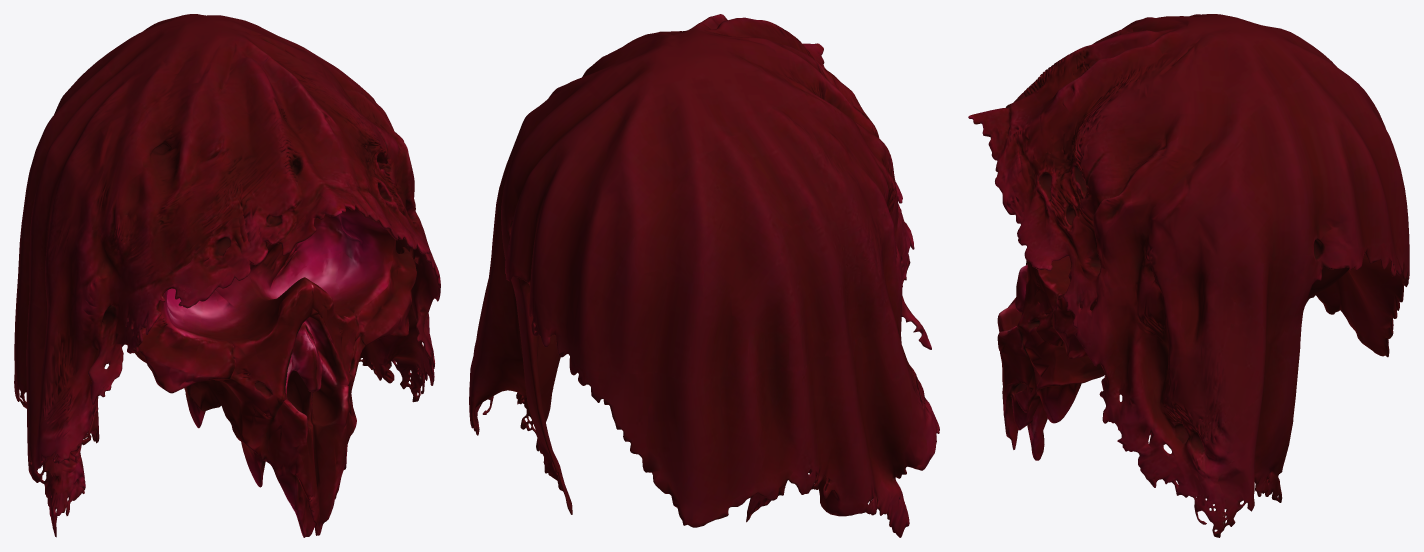
File: skull.glb
3 renders of one model, left to right at view 1: azimuth 30°, elevation 25°; view 2: azimuth 150°, elevation 25°; view 3: azimuth 270°, elevation 25°, orthographic. The views are drawn at different scales.
Visible parts, largest first — view 1: tripo_node_46aa98b8-b60e-4bf8-8b33-d6ba1753db54; view 2: tripo_node_46aa98b8-b60e-4bf8-8b33-d6ba1753db54; view 3: tripo_node_46aa98b8-b60e-4bf8-8b33-d6ba1753db54.
Part boxes in pixels (x1,y1,x2,y2): tripo_node_46aa98b8-b60e-4bf8-8b33-d6ba1753db54: (14,14,440,537); tripo_node_46aa98b8-b60e-4bf8-8b33-d6ba1753db54: (469,14,939,537); tripo_node_46aa98b8-b60e-4bf8-8b33-d6ba1753db54: (968,14,1409,537).
Bounding box in the file's own units: 0.9404 × 0.9811 × 0.8892.
1 material, 1 textured.
